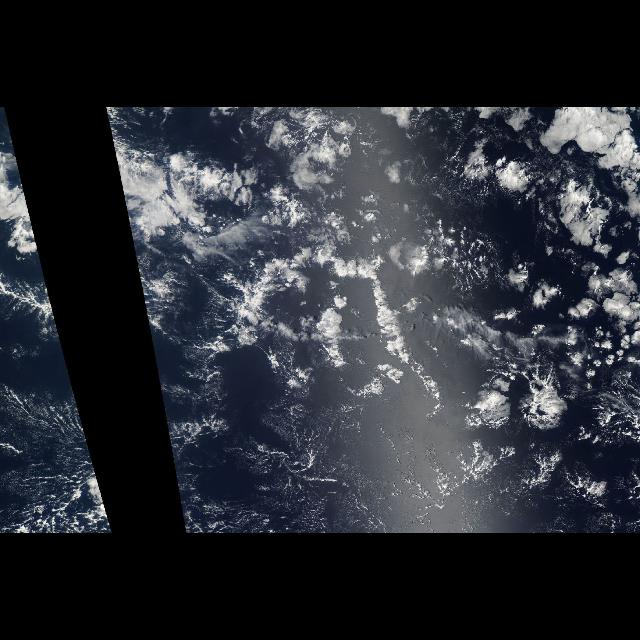Flower: (428, 162, 640, 514)
